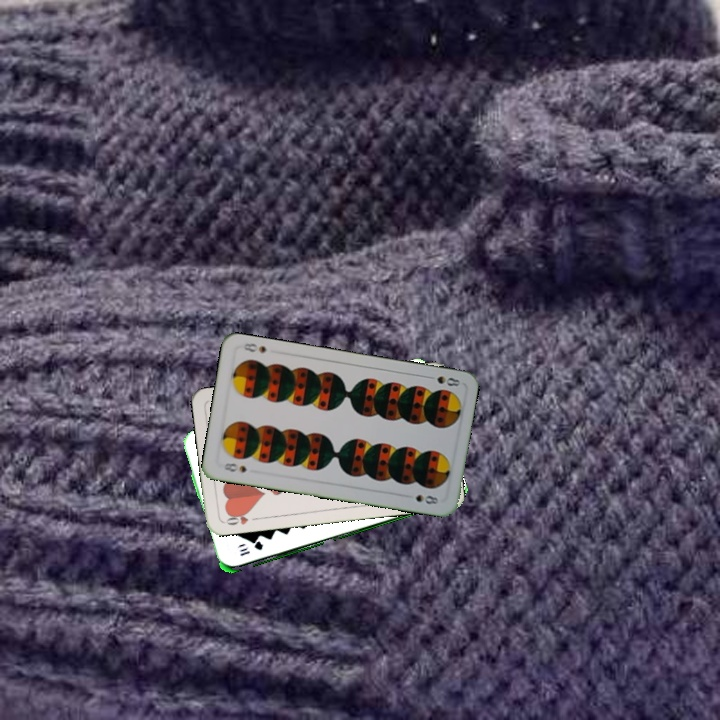G10: (236, 539, 266, 559)
HO: (220, 508, 261, 528)
S8: (422, 372, 462, 389), (219, 459, 249, 475)
